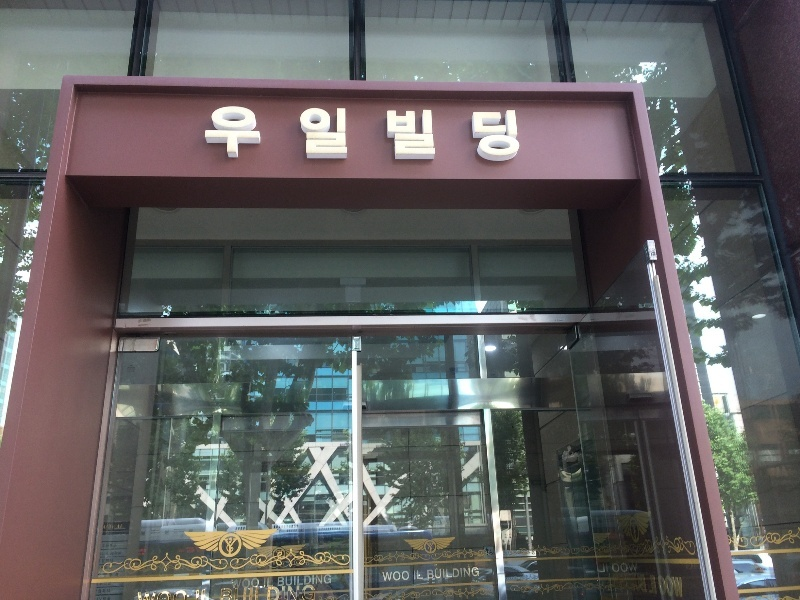text: (209, 105, 224, 165), (225, 105, 240, 165), (241, 105, 256, 165), (257, 105, 272, 165), (273, 105, 288, 165), (289, 105, 304, 165), (305, 105, 320, 165), (321, 105, 336, 165), (337, 105, 352, 165), (353, 105, 368, 165), (369, 105, 384, 165), (385, 105, 400, 165), (401, 105, 416, 165), (417, 105, 432, 165), (433, 105, 448, 165), (449, 105, 464, 165), (465, 105, 480, 165), (481, 105, 496, 165), (497, 105, 512, 165), (513, 105, 523, 165), (202, 105, 208, 165), (641, 575, 656, 599), (657, 575, 672, 599), (673, 575, 684, 599), (97, 583, 112, 600), (145, 585, 160, 600), (161, 585, 176, 600), (177, 585, 192, 600), (193, 585, 208, 600), (209, 585, 224, 600), (225, 585, 240, 600), (241, 585, 256, 600), (257, 585, 272, 600), (273, 585, 288, 600), (289, 585, 304, 600), (433, 567, 448, 581), (449, 567, 464, 581), (465, 567, 480, 581), (289, 575, 304, 589), (305, 575, 320, 589), (241, 578, 256, 591), (385, 570, 400, 582), (609, 563, 624, 575), (321, 575, 333, 589), (100, 566, 112, 580), (633, 575, 640, 599), (305, 585, 316, 600), (625, 563, 638, 575), (278, 575, 288, 589), (598, 563, 608, 575), (401, 570, 410, 582), (137, 585, 144, 600), (232, 578, 240, 591), (113, 566, 119, 580), (264, 578, 272, 588), (417, 570, 424, 581), (427, 567, 432, 581), (101, 551, 112, 556), (113, 524, 122, 530), (100, 559, 112, 563), (104, 524, 112, 530), (113, 551, 122, 556), (102, 544, 112, 548), (257, 578, 259, 591), (382, 570, 384, 582), (414, 570, 416, 581), (113, 544, 117, 548), (273, 578, 274, 588), (113, 559, 114, 563)
